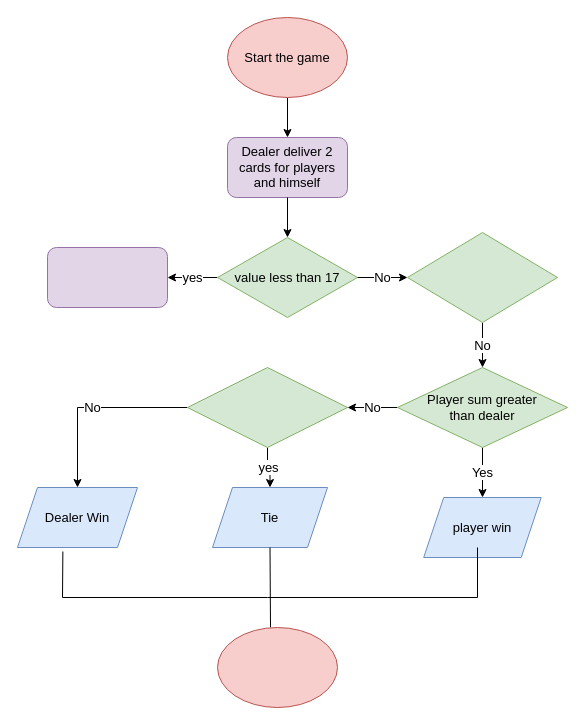
This 585x725 diagram has some shape labels left out. Each missing label, with the box of its shape:
Add new card: (46, 246, 168, 308)
End game: (216, 626, 338, 708)
Player sum equal dealer: (186, 366, 348, 448)
Value greater than 21: (406, 232, 558, 322)
